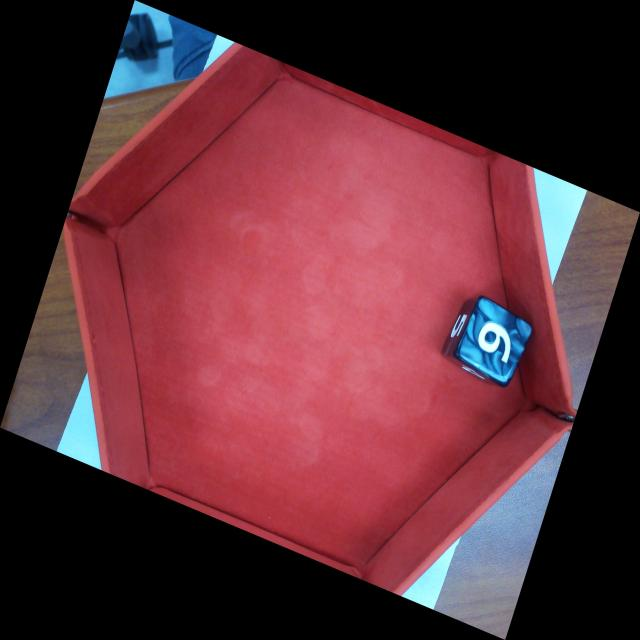dice: (453, 294, 538, 389)
